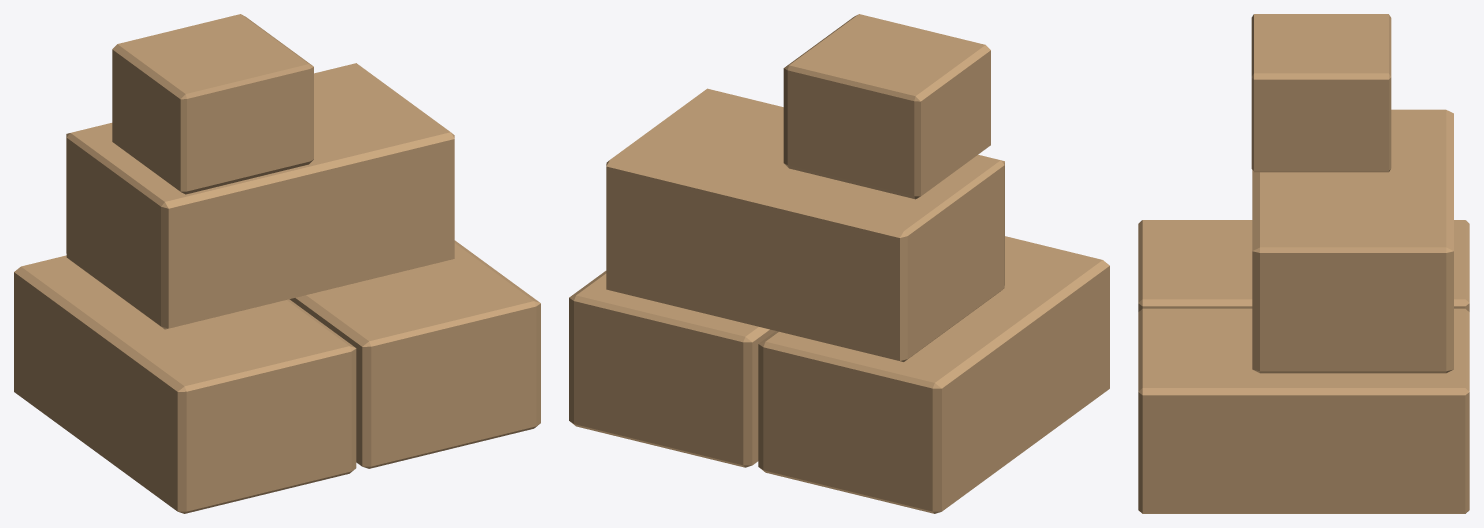
The model's file is Prop_Boxes_J.fbx.
3 views of the same model, side by side, from view 1: azimuth 30°, elevation 25°; view 2: azimuth 150°, elevation 25°; view 3: azimuth 270°, elevation 25° (orthographic). The views are drawn at different scales.
Parts seen in each view (by area): view 1: Prop_Boxes_J; view 2: Prop_Boxes_J; view 3: Prop_Boxes_J.
Boxes of the visible parts, box(x1,y1,x2,y2) form: Prop_Boxes_J: box(14, 14, 540, 513); Prop_Boxes_J: box(569, 14, 1109, 513); Prop_Boxes_J: box(1138, 14, 1469, 513).
Size of the model in its own units: 107 by 133 by 128.
